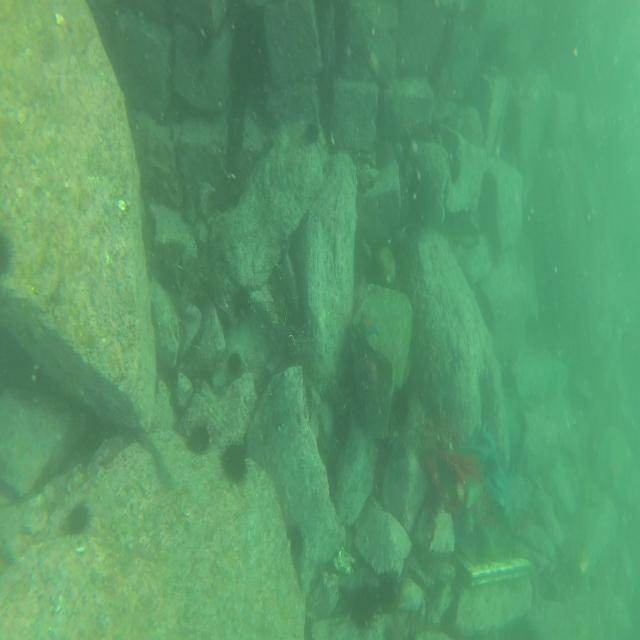echinus: (218, 439, 252, 481), (380, 562, 404, 613), (352, 583, 378, 627), (184, 422, 210, 453), (231, 284, 252, 320), (61, 506, 88, 532), (288, 524, 306, 560), (1, 228, 13, 271), (302, 118, 322, 142), (226, 351, 242, 375)
